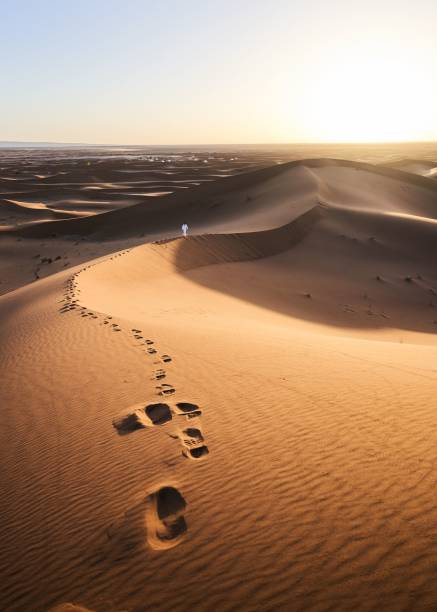human_foot_print: (145, 486, 186, 549), (140, 339, 182, 375), (135, 402, 172, 431), (108, 320, 146, 346), (180, 442, 222, 463), (152, 374, 181, 401), (172, 404, 208, 421)
